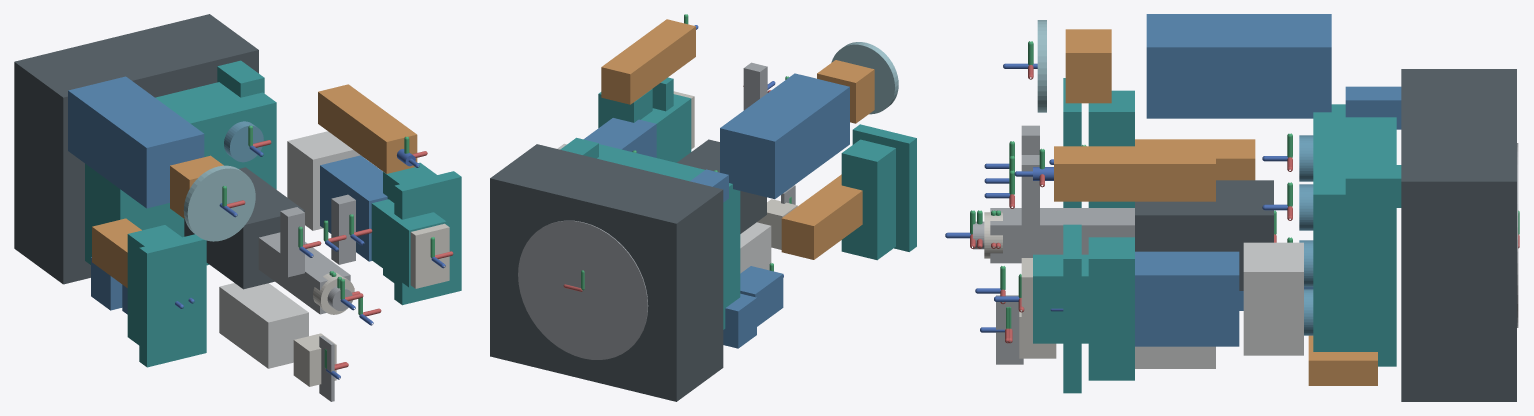
The model's file is dranmar_tumor_resection_tool_frame_debug.glb.
The picture shows the model from 3 angles, left to right: view 1: azimuth 30°, elevation 25°; view 2: azimuth 150°, elevation 25°; view 3: azimuth 270°, elevation 25°; orthographic projection. The views are drawn at different scales.
Parts seen in each view (by area): view 1: Mount_MountBody, BagDeployer_BagDeployerBody, SensorTurret_SensorTurretBody, LeftTraction_LeftPad, ScissorCarriage_ScissorCarriageBody, MarginMarker_MarginMarkerBody, RightTraction_RightPad, AspiratorCarriage_AspiratorCarriageBody, BagDeployer_BagRing, UltrasoundPitch_UltrasoundPitchBody, UltrasoundCarriage_UltrasoundCarriageBody, UltrasoundCompliance_UltrasoundComplianceBody (+14 smaller); view 2: Mount_MountBody, Mount_MountRing, BagDeployer_BagDeployerBody, LeftTraction_LeftTractionBody, MarginMarker_MarginMarkerBody, RamanProbe_RamanProbeBody, SensorTurret_SensorTurretBody, LeftTraction_LeftPad, UltrasoundCompliance_UltrasoundComplianceBody, BagDeployer_BagRing, BagClosure_BagClosureBody, UltrasoundPitch_UltrasoundPitchBody (+10 smaller); view 3: Mount_MountBody, BagDeployer_BagDeployerBody, SensorTurret_SensorTurretBody, UltrasoundPitch_UltrasoundPitchBody, MarginMarker_MarginMarkerBody, AspiratorCarriage_AspiratorCarriageBody, UltrasoundCarriage_UltrasoundCarriageBody, RightTraction_RightTractionBody, AspiratorRotor_AspiratorRotorBody, BagClosure_BagClosureBody, UltrasoundCompliance_UltrasoundComplianceBody, RightTraction_RightPad (+16 smaller).
Part boxes in pixels (<box>): Mount_MountBody: <box>14,14,258,284</box>; BagDeployer_BagDeployerBody: <box>68,76,204,208</box>; SensorTurret_SensorTurretBody: <box>85,82,276,265</box>; LeftTraction_LeftPad: <box>139,234,206,367</box>; ScissorCarriage_ScissorCarriageBody: <box>219,283,308,368</box>; MarginMarker_MarginMarkerBody: <box>318,84,417,173</box>; RightTraction_RightPad: <box>394,171,461,305</box>; AspiratorCarriage_AspiratorCarriageBody: <box>184,167,304,289</box>; BagDeployer_BagRing: <box>183,165,255,241</box>; UltrasoundPitch_UltrasoundPitchBody: <box>320,155,387,261</box>; UltrasoundCarriage_UltrasoundCarriageBody: <box>287,131,363,230</box>; UltrasoundCompliance_UltrasoundComplianceBody: <box>371,199,446,287</box>; Mount_MountBody: <box>490,144,723,401</box>; Mount_MountRing: <box>518,220,648,359</box>; BagDeployer_BagDeployerBody: <box>720,73,849,199</box>; LeftTraction_LeftTractionBody: <box>841,139,895,260</box>; MarginMarker_MarginMarkerBody: <box>601,19,695,104</box>; RamanProbe_RamanProbeBody: <box>781,174,862,259</box>; SensorTurret_SensorTurretBody: <box>597,144,740,329</box>; LeftTraction_LeftPad: <box>852,124,916,251</box>; UltrasoundCompliance_UltrasoundComplianceBody: <box>641,94,691,162</box>; BagDeployer_BagRing: <box>831,42,898,114</box>; BagClosure_BagClosureBody: <box>817,60,874,123</box>; UltrasoundPitch_UltrasoundPitchBody: <box>584,118,656,157</box>; Mount_MountBody: <box>1401,69,1516,401</box>; BagDeployer_BagDeployerBody: <box>1146,14,1331,118</box>; SensorTurret_SensorTurretBody: <box>1313,104,1396,366</box>; UltrasoundPitch_UltrasoundPitchBody: <box>1135,251,1239,346</box>; MarginMarker_MarginMarkerBody: <box>1054,146,1215,201</box>; AspiratorCarriage_AspiratorCarriageBody: <box>1135,180,1273,290</box>; UltrasoundCarriage_UltrasoundCarriageBody: <box>1243,242,1303,355</box>; RightTraction_RightTractionBody: <box>1088,237,1134,380</box>; AspiratorRotor_AspiratorRotorBody: <box>990,208,1134,263</box>; BagClosure_BagClosureBody: <box>1065,29,1111,103</box>; UltrasoundCompliance_UltrasoundComplianceBody: <box>1033,254,1088,343</box>; RightTraction_RightPad: <box>1063,224,1081,393</box>.
Bounding box in the file's own units: 0.185 × 0.136 × 0.2482.
